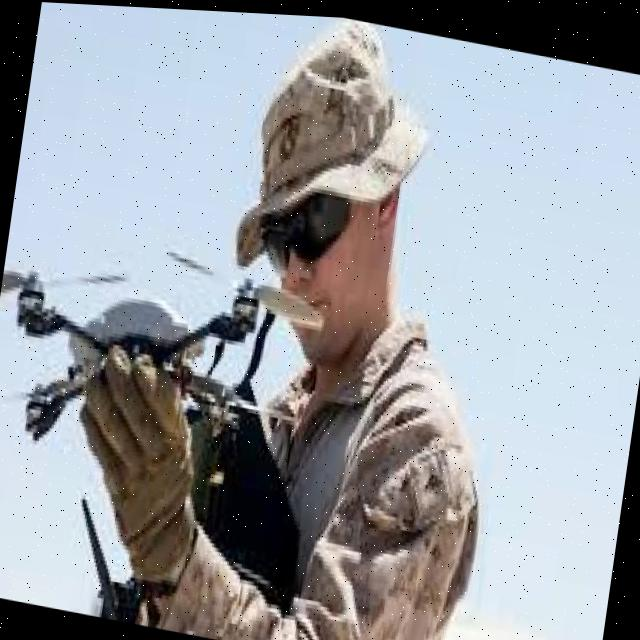drone: (0, 216, 331, 505)
